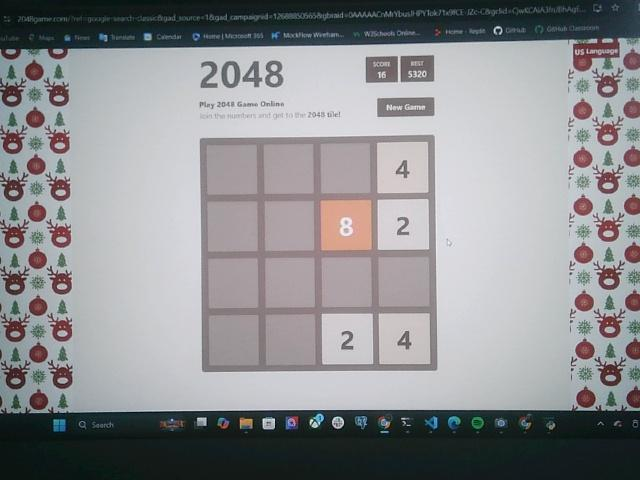best_score_box: (402, 55, 435, 81)
board: (201, 136, 437, 372)
button: (377, 97, 434, 116)
score_box: (366, 56, 397, 83)
tile: (321, 313, 374, 366), (377, 141, 428, 194), (320, 200, 373, 251), (379, 313, 431, 364), (379, 199, 429, 250)
